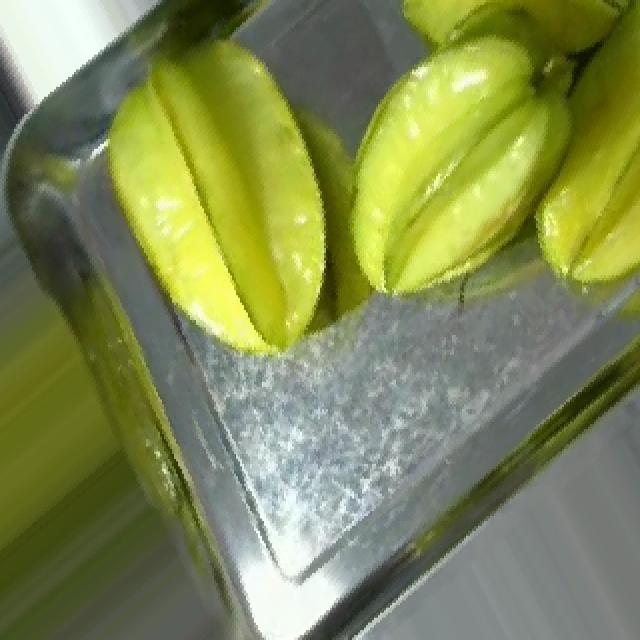fruit: (76, 2, 418, 397), (294, 0, 640, 350), (0, 226, 238, 605)
